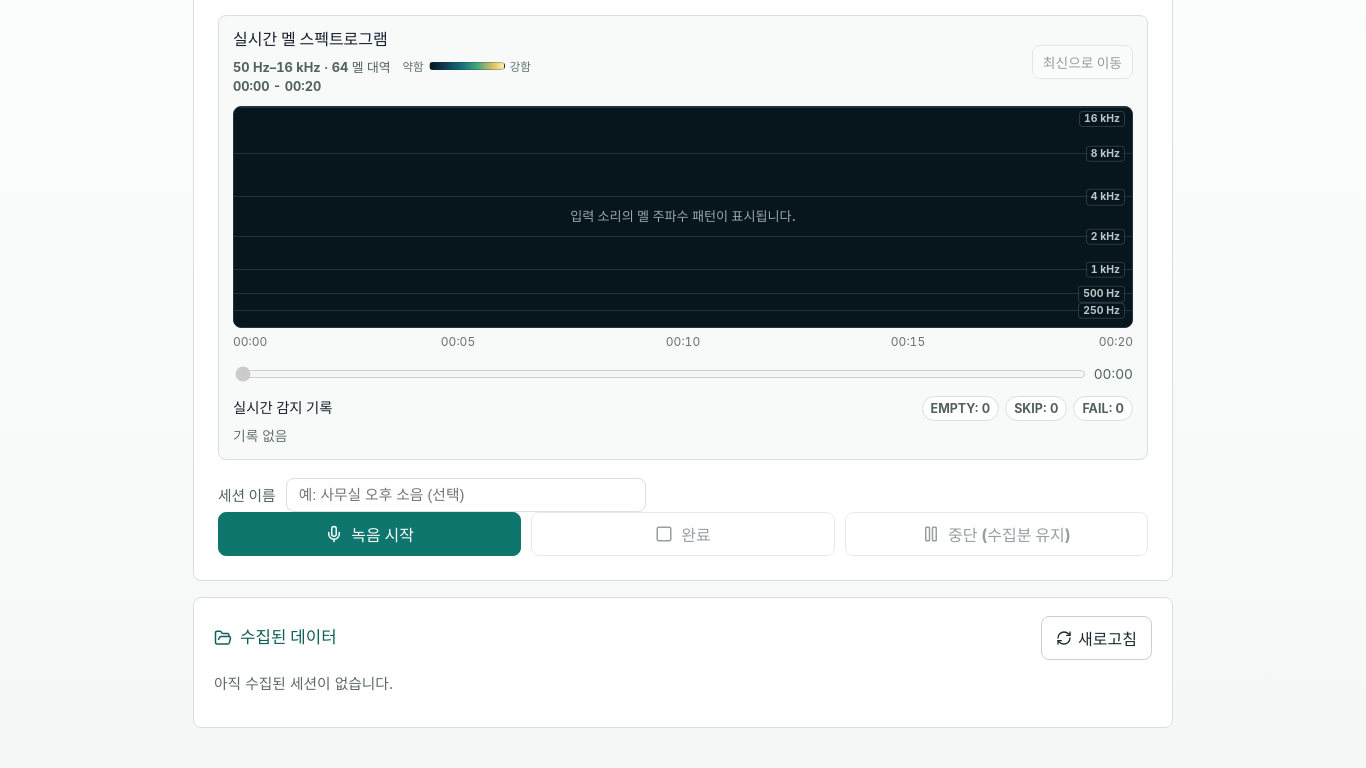
App › shows an unsupported message when media APIs are missing
This screenshot has width=1366, height=768.
(page scrolled)
Click the button "녹음 시작". click: x=370, y=534
box: [218,512,521,556]
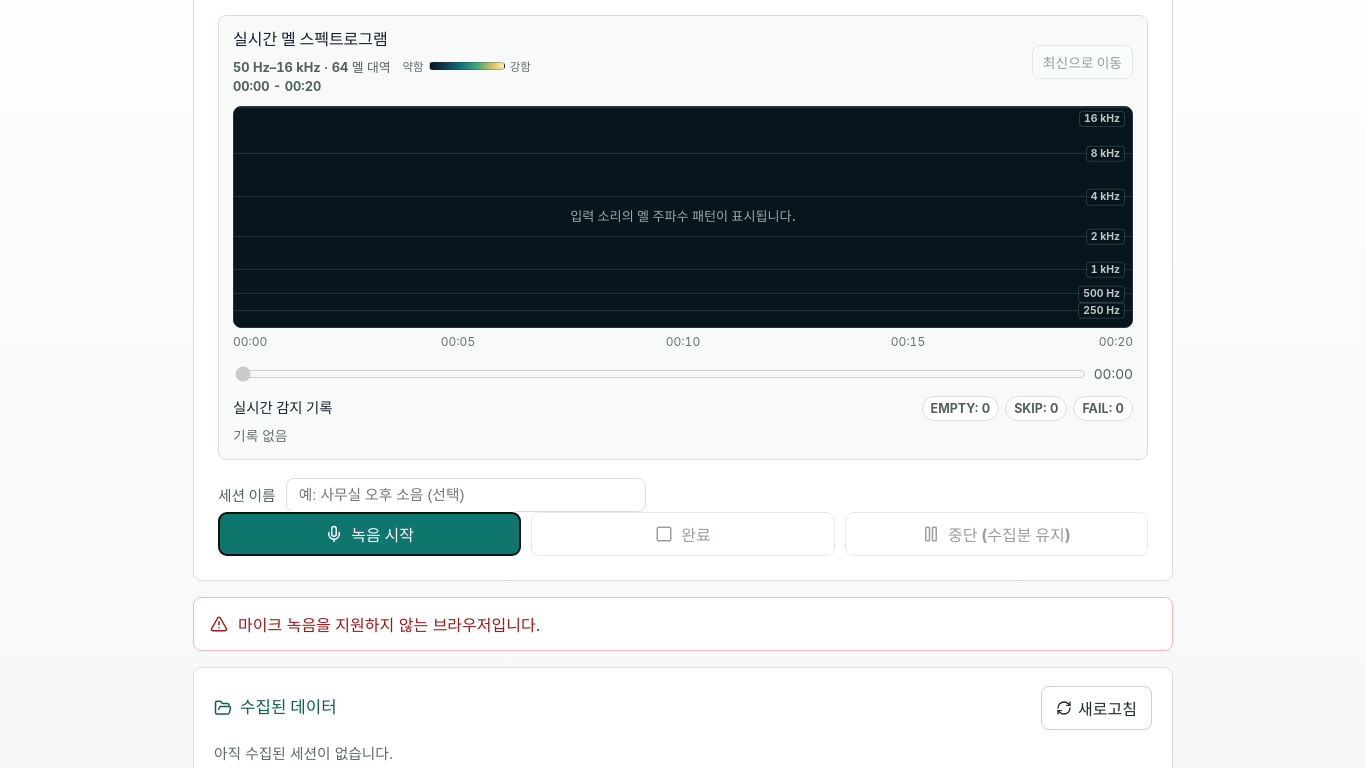
Now the text "마이크 녹음을 지원하지 않는 브라우저입니다." is shown, box [193,597,1173,651]
